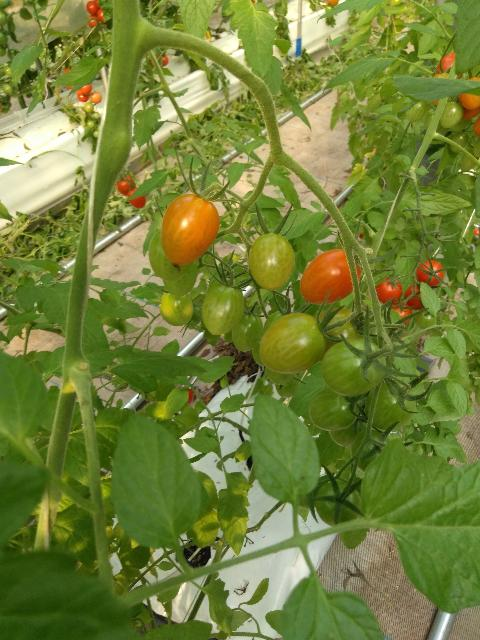l_fully_ripened: (300, 249, 362, 305), (415, 260, 445, 286), (376, 278, 402, 305), (404, 282, 424, 311), (389, 302, 413, 326), (115, 175, 137, 196), (127, 187, 146, 209)
l_green: (259, 312, 327, 374), (322, 338, 386, 396), (317, 307, 367, 362), (249, 233, 295, 290), (365, 381, 415, 431), (149, 231, 196, 280), (309, 386, 359, 432), (314, 481, 363, 527), (202, 284, 244, 336), (350, 430, 390, 473), (160, 289, 193, 326), (232, 313, 263, 352), (162, 263, 197, 297), (206, 272, 243, 298), (328, 420, 363, 447), (440, 101, 463, 128), (266, 365, 295, 385), (274, 377, 299, 398), (406, 99, 426, 122), (450, 132, 470, 153)
l_half_ripened: (160, 193, 219, 266), (458, 77, 480, 110)
